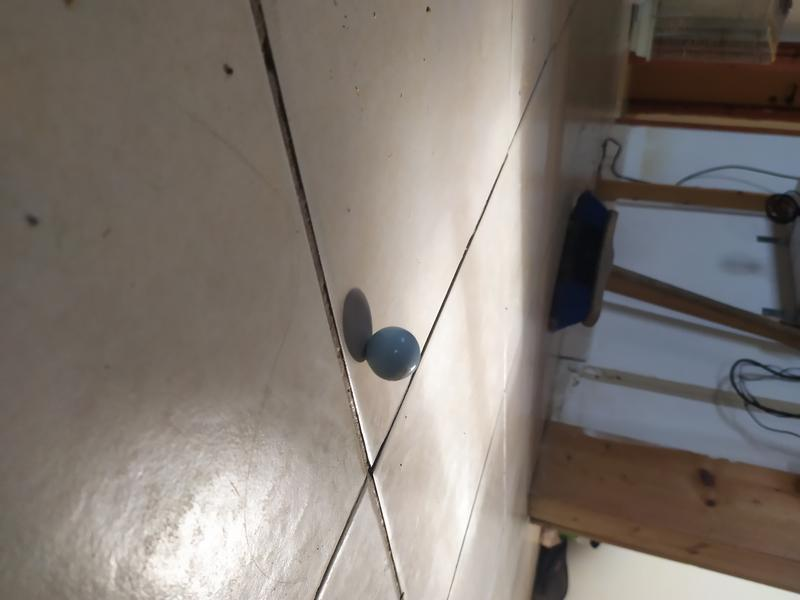Warning: (362, 323, 424, 383)
